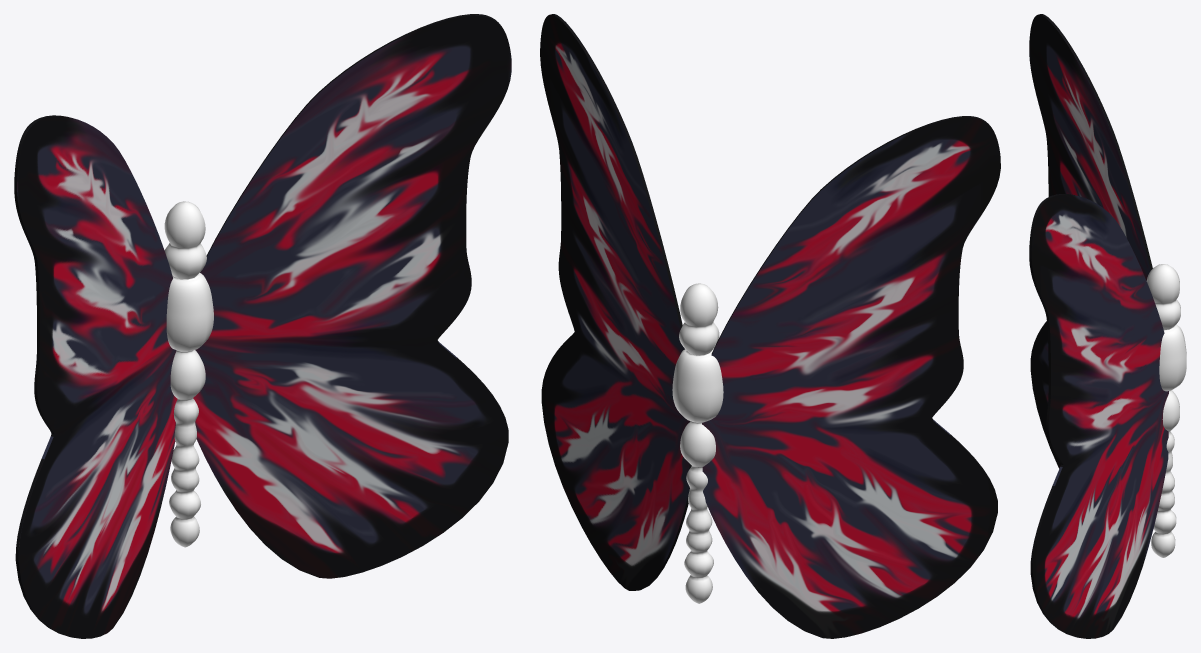
The model's file is butterfly13.gltf.
3 views of the same model, side by side, from view 1: azimuth 30°, elevation 25°; view 2: azimuth 150°, elevation 25°; view 3: azimuth 270°, elevation 25° (orthographic). The views are drawn at different scales.
Parts seen in each view (by area): view 1: butterfly wing left.001, butterfly wing left, butterfly mesh; view 2: butterfly wing left, butterfly wing left.001, butterfly mesh; view 3: butterfly wing left.001, butterfly wing left, butterfly mesh.
Boxes of the visible parts, left/top/right/bottom form: butterfly wing left.001: left=193, top=14, right=511, bottom=578; butterfly wing left: left=14, top=115, right=177, bottom=638; butterfly mesh: left=164, top=201, right=213, bottom=547; butterfly wing left: left=702, top=116, right=1000, bottom=638; butterfly wing left.001: left=540, top=14, right=691, bottom=590; butterfly mesh: left=672, top=283, right=723, bottom=603; butterfly wing left.001: left=1029, top=194, right=1168, bottom=638; butterfly wing left: left=1029, top=14, right=1152, bottom=468; butterfly mesh: left=1146, top=264, right=1186, bottom=557.
Bounding box in the file's own units: 1.32 × 1.43 × 0.4251.
2 materials, 1 textured.
